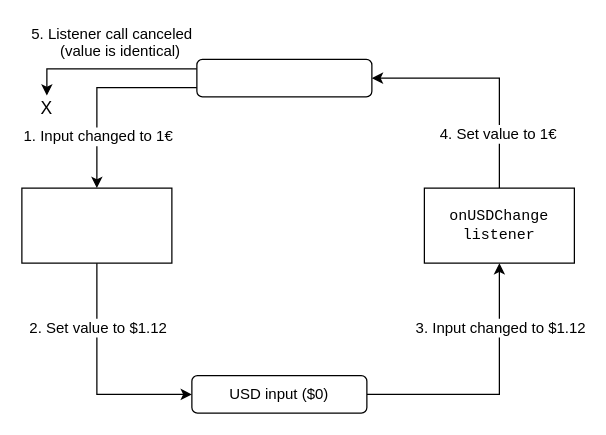
Some shapes in this 606 by 435 pixel diagram are drawn without their labels. Each missing label, with the centre of its shape:
EUR input (0€): the point at 284,77
onEuroChange listener: the point at 96,225
